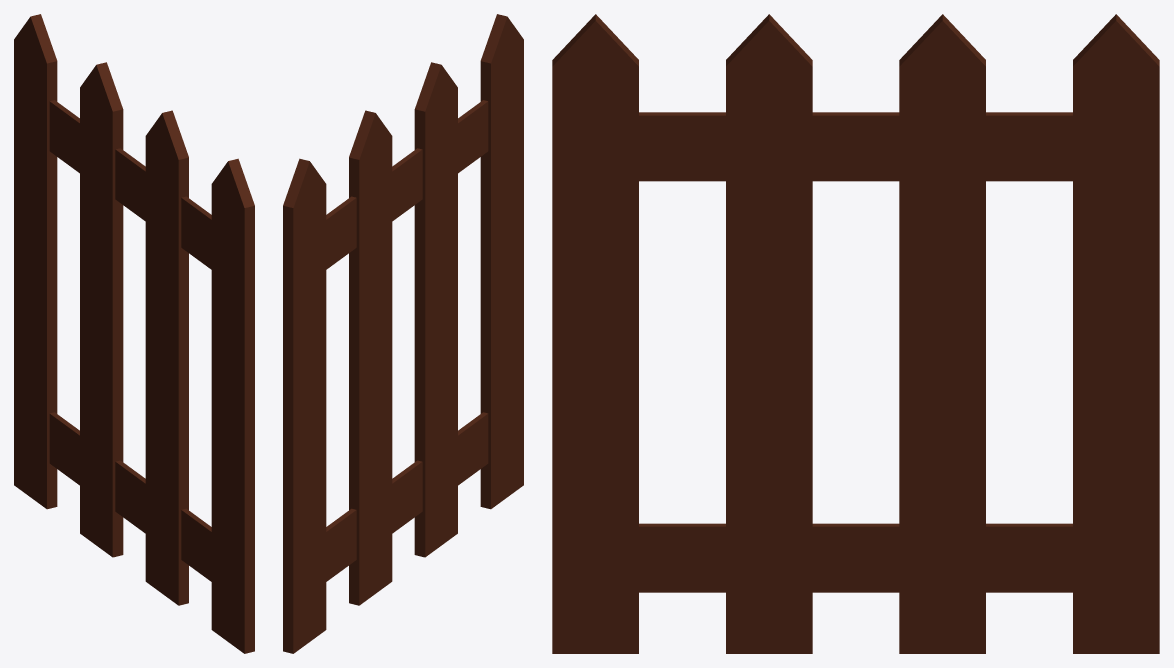
Rendered from Płotek.obj.
The picture shows the model from 3 angles, left to right: view 1: azimuth 30°, elevation 25°; view 2: azimuth 150°, elevation 25°; view 3: azimuth 270°, elevation 25°; orthographic projection. The views are drawn at different scales.
Parts seen in each view (by area): view 1: Cube, Cube.001, Cube.002; view 2: Cube, Cube.001, Cube.002; view 3: Cube, Cube.001, Cube.002.
Part boxes in pixels (x1,y1,x2,y2): Cube: (14,14,254,653); Cube.001: (49,100,211,269); Cube.002: (49,412,211,581); Cube: (283,14,523,653); Cube.001: (326,100,488,269); Cube.002: (326,412,488,581); Cube: (552,14,1159,653); Cube.001: (639,112,1072,181); Cube.002: (639,523,1072,592).
Bounding box in the file's own units: 0.237 × 10.43 × 9.06.
